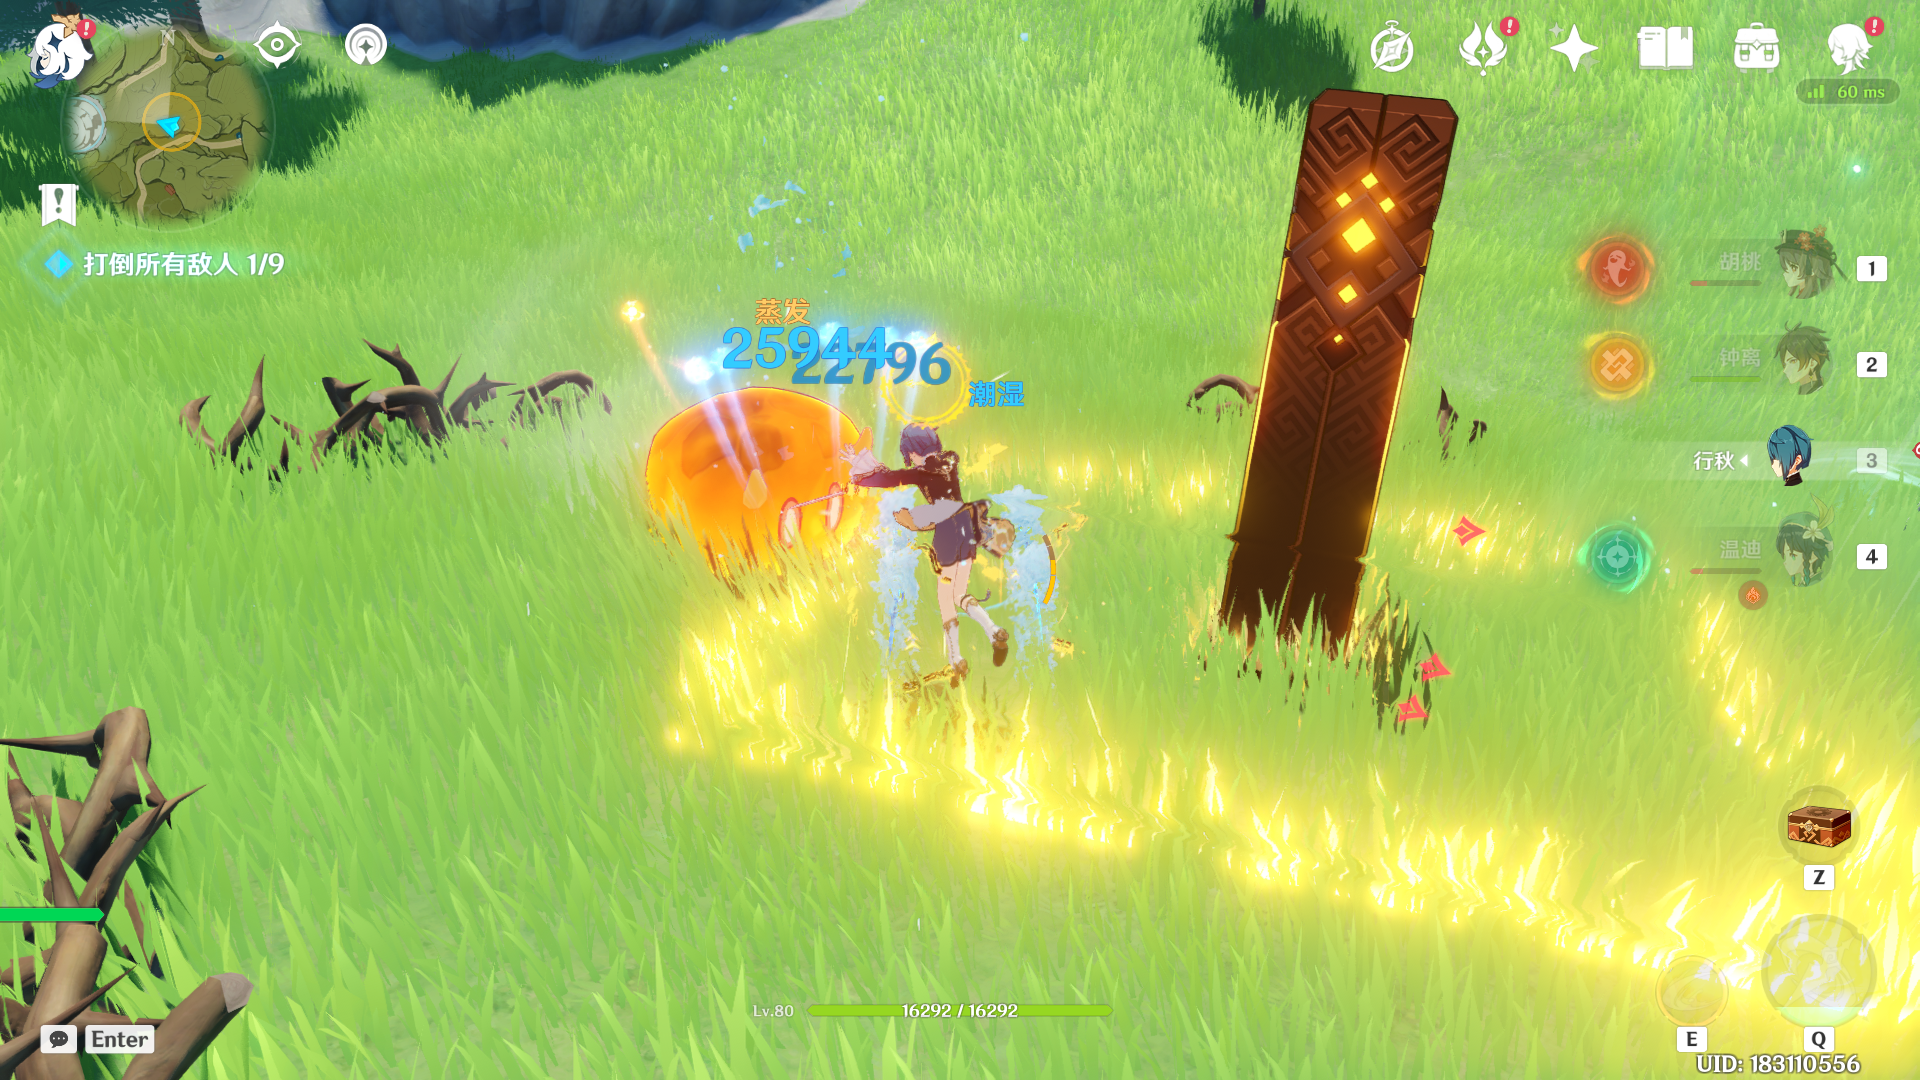character: (822, 380, 1095, 694)
slime: (622, 371, 890, 582)
